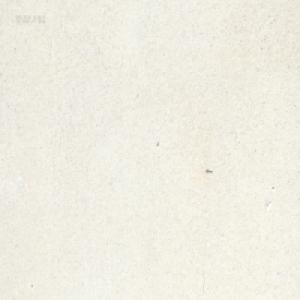Nail: (205, 168, 212, 173)
